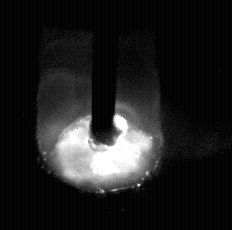arame: (92, 0, 117, 146)
poca: (36, 0, 163, 230)
